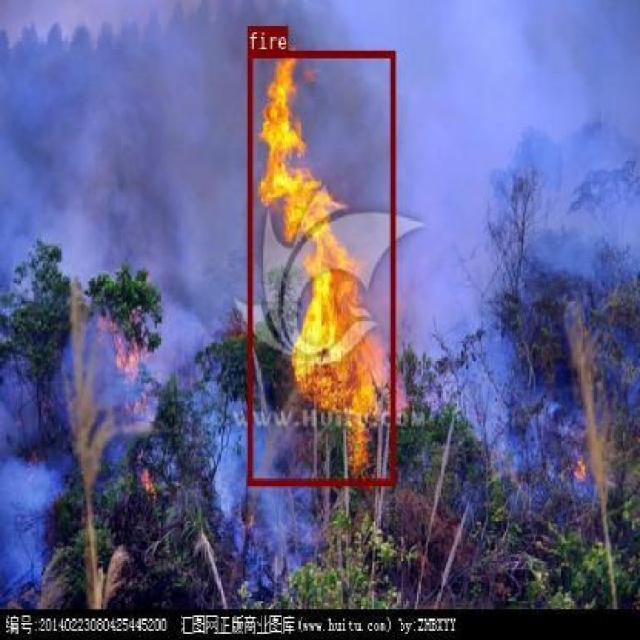Fire: (246, 49, 394, 484)
Smoke: (400, 8, 640, 404), (0, 5, 244, 324)
